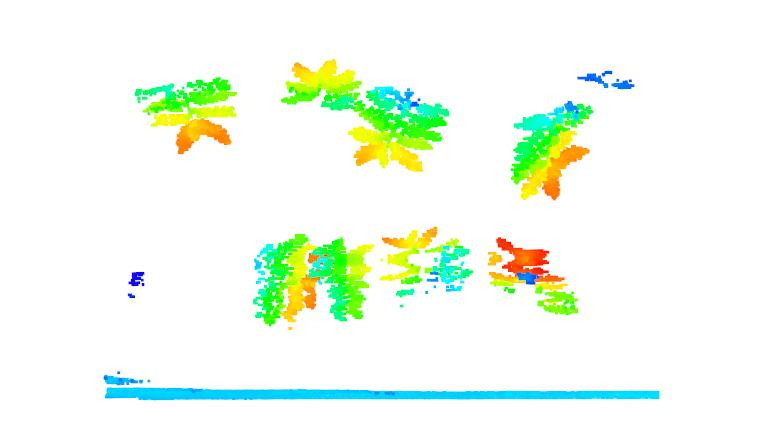chickpea: (349, 84, 449, 173), (510, 97, 594, 200), (133, 73, 236, 154), (488, 237, 581, 317), (250, 230, 320, 328), (381, 226, 474, 298), (312, 235, 375, 323), (284, 60, 364, 113)
